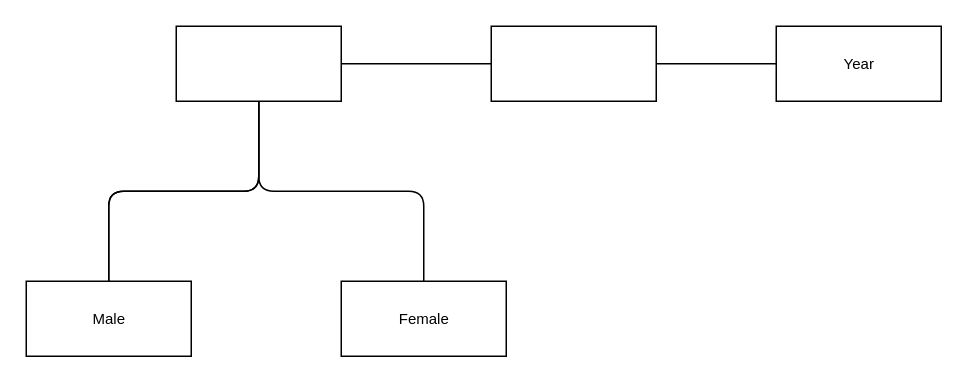
Some shapes in this 968 by 383 pixel diagram are drawn without their labels. The centre of each missing label's shape, as x and y in pixels:
"Gender" goes at point (258, 63).
"Name" goes at point (573, 63).
